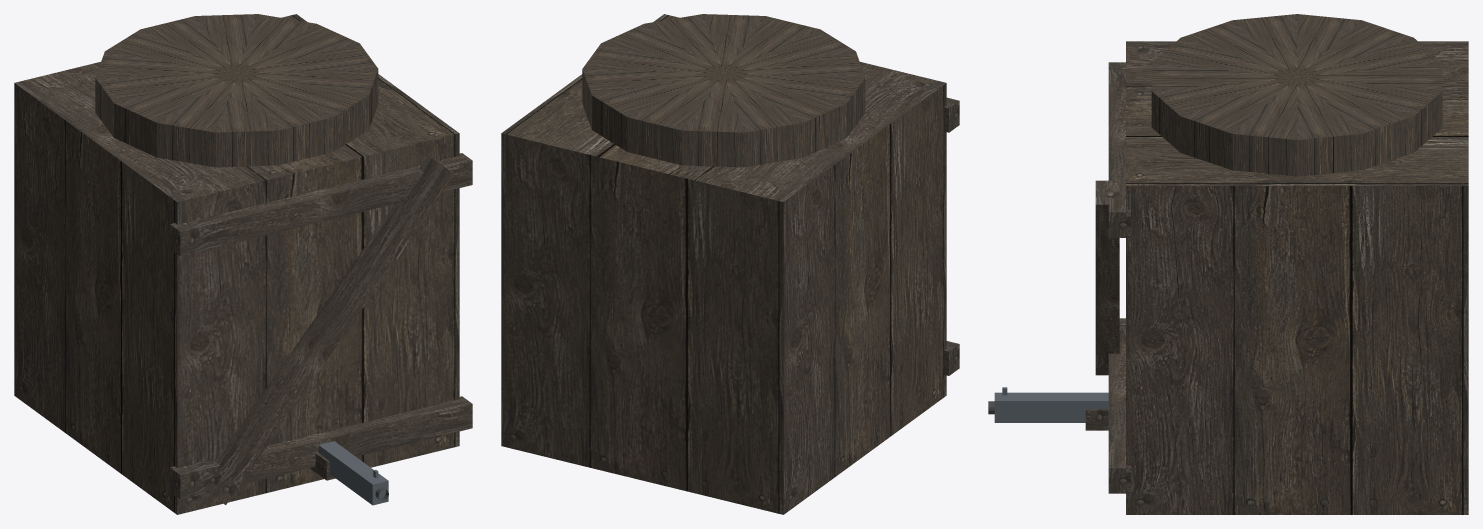
Rendered from items.glb.
The picture shows the model from 3 angles, left to right: view 1: azimuth 30°, elevation 25°; view 2: azimuth 150°, elevation 25°; view 3: azimuth 270°, elevation 25°; orthographic projection. The views are drawn at different scales.
Visible parts, largest first — view 1: Crate, Barrel, Shotgun; view 2: Crate, Barrel; view 3: Crate, Barrel, Shotgun.
Boxes of the visible parts, x1,y1,x2,y2 form: Crate: [14, 14, 472, 514]; Barrel: [95, 14, 378, 167]; Shotgun: [310, 441, 388, 505]; Crate: [501, 14, 959, 514]; Barrel: [582, 14, 865, 167]; Crate: [1095, 41, 1468, 514]; Barrel: [1151, 14, 1442, 176]; Shotgun: [988, 387, 1108, 430].
Bounding box in the file's own units: 0.88 × 1.1 × 1.19.
Materials: 11 (2 with a texture image).
